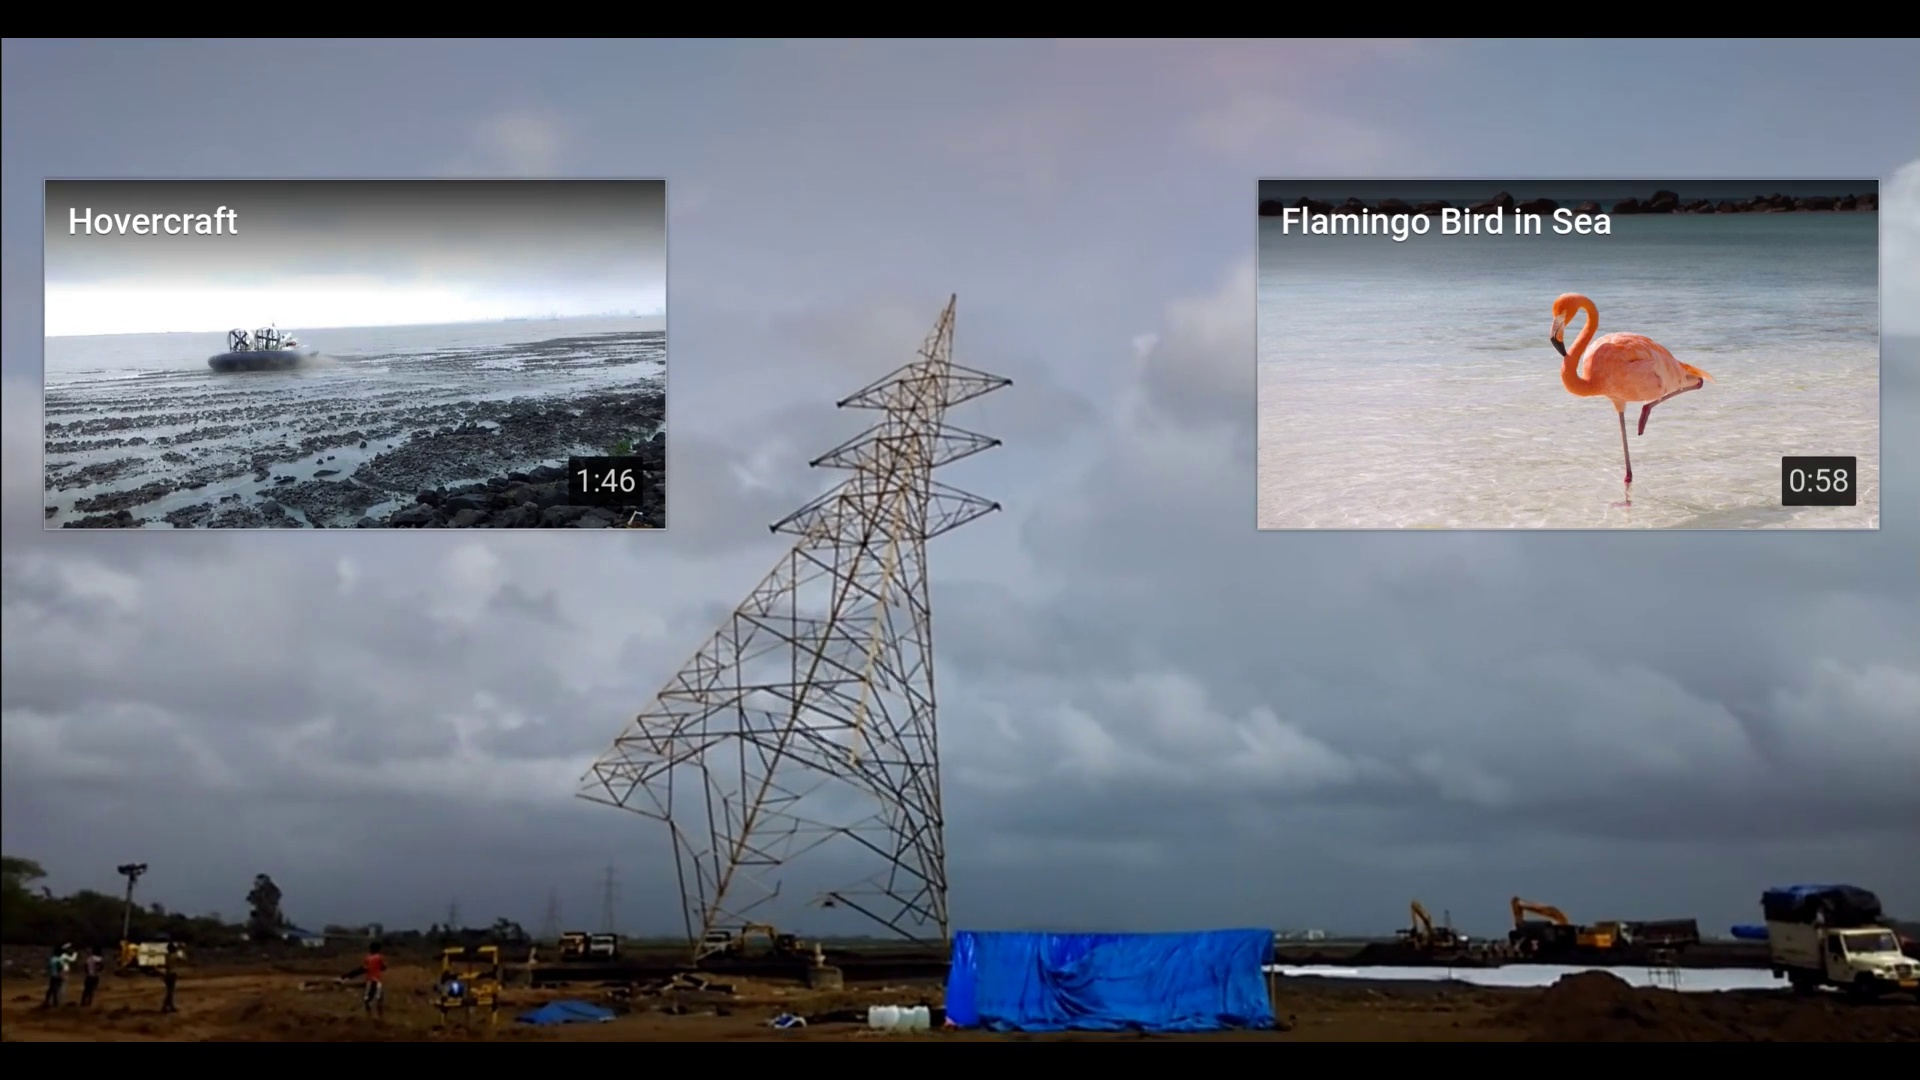tower_up: (705, 286, 1040, 953)
